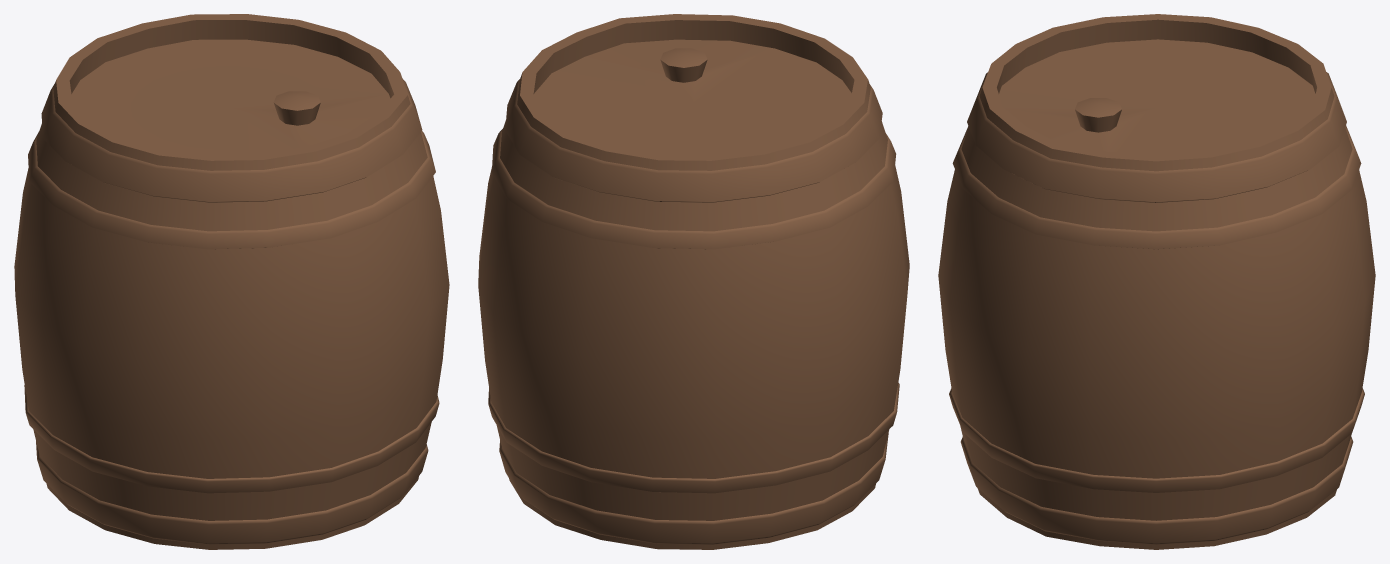
File: tonneaux_bouchon.fbx
The picture shows the model from 3 angles, left to right: view 1: azimuth 30°, elevation 25°; view 2: azimuth 150°, elevation 25°; view 3: azimuth 270°, elevation 25°; orthographic projection.
Parts seen in each view (by area): view 1: tonneau, bouchon; view 2: tonneau, bouchon; view 3: tonneau, bouchon.
Part boxes in pixels (left/top/right/bottom): tonneau: left=14, top=14, right=449, bottom=549; bouchon: left=273, top=91, right=320, bottom=125; tonneau: left=478, top=14, right=909, bottom=549; bouchon: left=660, top=48, right=707, bottom=82; tonneau: left=938, top=14, right=1375, bottom=549; bouchon: left=1075, top=98, right=1121, bottom=132.
Bounding box in the file's own units: 44.26 × 43.67 × 44.74.
